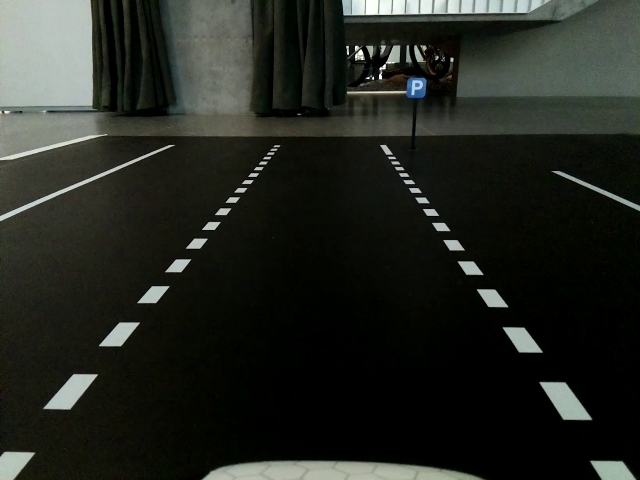park: (406, 78, 425, 99)
